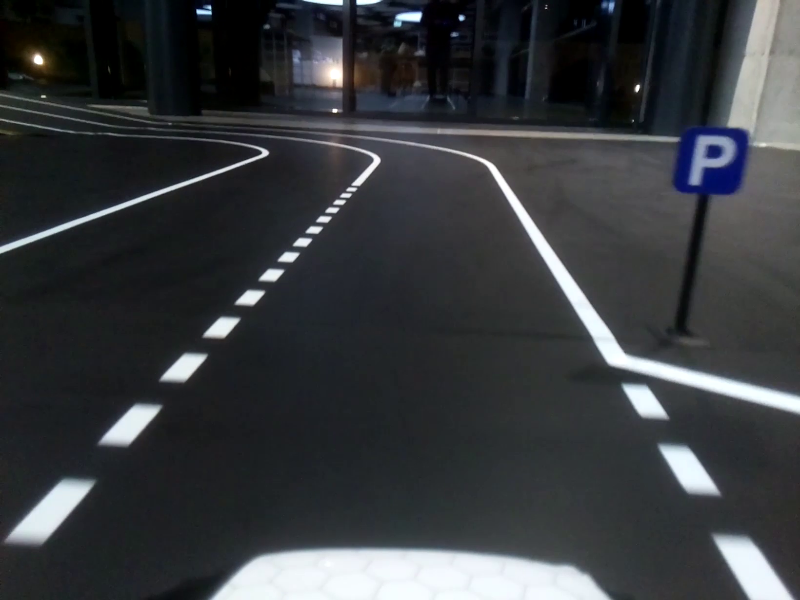park: (676, 125, 749, 198)
